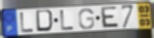7: (121, 4, 136, 29)
D: (35, 9, 56, 33)
E: (101, 6, 121, 29)
G: (78, 7, 96, 30)
L: (20, 12, 36, 34), (60, 9, 76, 31)
